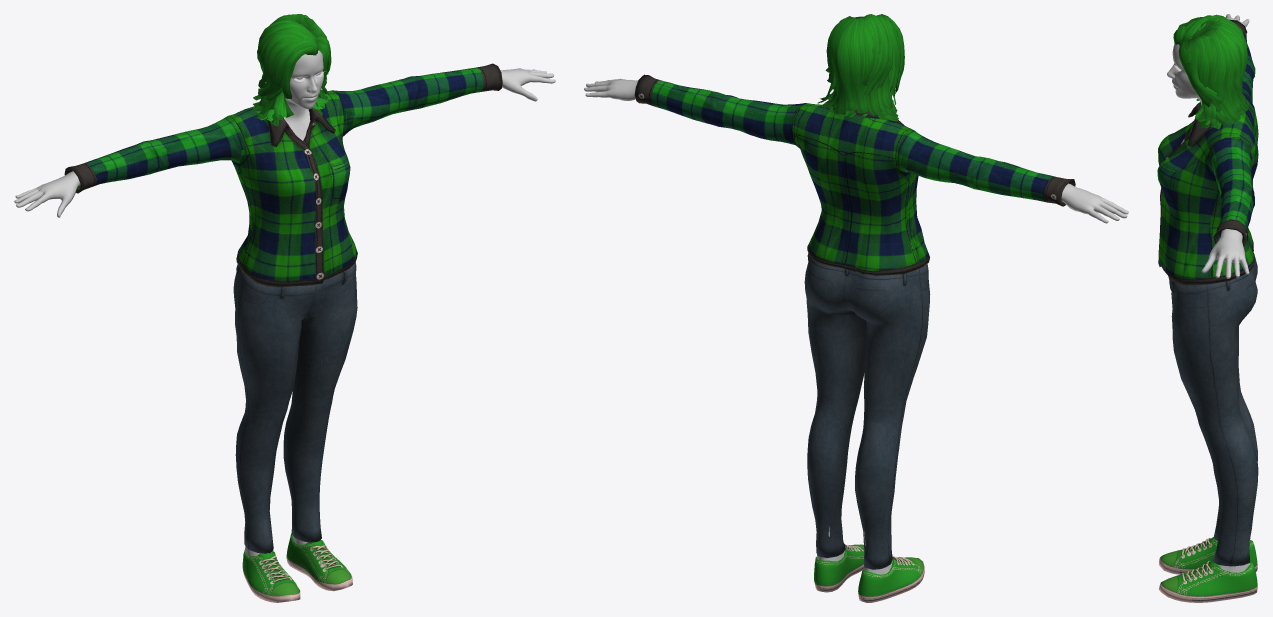
The model's file is seventh_clothes_hair.obj.
The picture shows the model from 3 angles, left to right: view 1: azimuth 30°, elevation 25°; view 2: azimuth 150°, elevation 25°; view 3: azimuth 270°, elevation 25°; orthographic projection.
Visible parts, largest first — view 1: Tops, Bottoms, Hair, Body, Shoes; view 2: Tops, Bottoms, Hair, Shoes, Body; view 3: Bottoms, Tops, Hair, Shoes, Body.
Boxes of the visible parts, left/top/right/bottom form: Tops: left=64, top=63, right=502, bottom=287; Bottoms: left=233, top=262, right=357, bottom=553; Hair: left=253, top=14, right=331, bottom=126; Body: left=14, top=50, right=555, bottom=556; Shoes: left=242, top=533, right=352, bottom=602; Tops: left=634, top=74, right=1075, bottom=275; Bottoms: left=804, top=253, right=930, bottom=569; Hair: left=817, top=14, right=904, bottom=121; Shoes: left=814, top=544, right=924, bottom=602; Body: left=584, top=78, right=1128, bottom=574; Bottoms: left=1168, top=253, right=1258, bottom=566; Tops: left=1157, top=19, right=1258, bottom=285; Hair: left=1173, top=14, right=1248, bottom=129; Shoes: left=1158, top=537, right=1257, bottom=602; Body: left=1167, top=14, right=1250, bottom=572.
Bounding box in the file's own units: 17.95 × 17.93 × 2.92.
